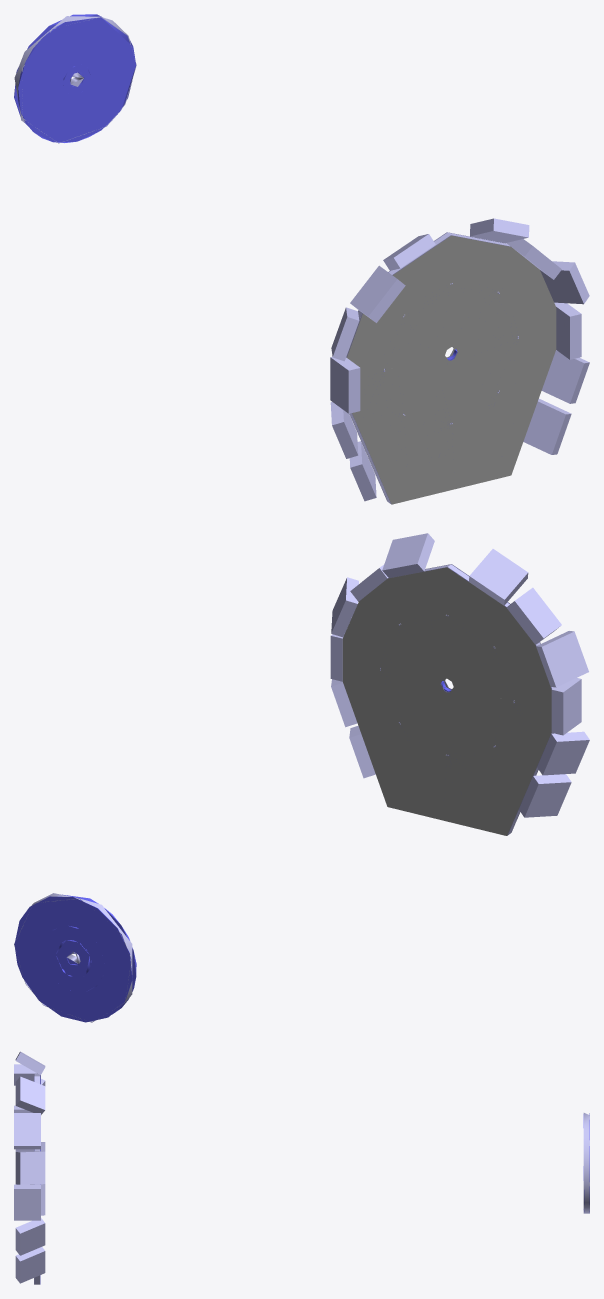
3 views of the same model, one above another, from view 1: azimuth 30°, elevation 25°; view 2: azimuth 150°, elevation 25°; view 3: azimuth 270°, elevation 25° (orthographic). The views are drawn at different scales.
Visible parts, largest first — view 1: Mesh_0; view 2: Mesh_0; view 3: Mesh_0.
Part boxes in pixels (x1,y1,x2,y2): Mesh_0: [14, 14, 589, 504]; Mesh_0: [14, 533, 589, 1022]; Mesh_0: [14, 1051, 589, 1284].
Size of the model in its own units: 166 by 166 by 436.
